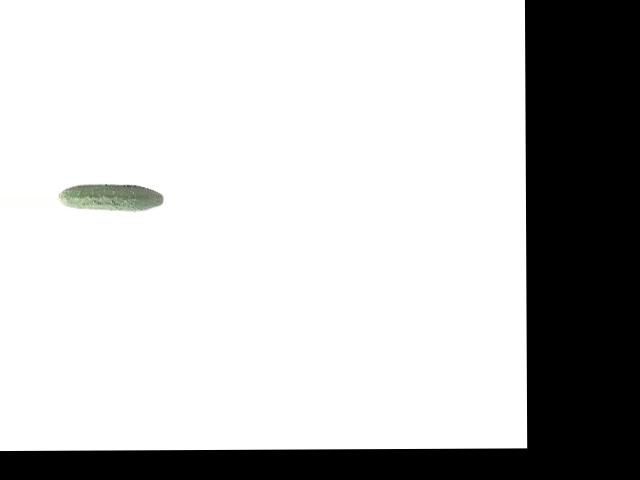cucumber: (58, 184, 164, 211)
